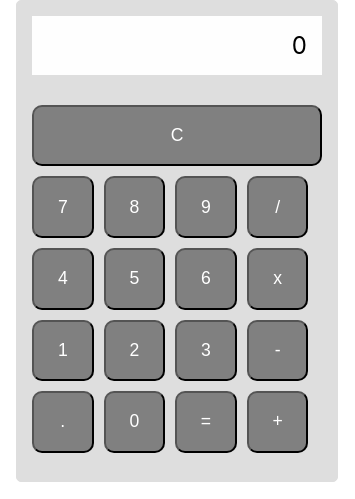
it: Calculator › should add 1 to 4 and get 5
This screenshot has width=355, height=499.
Click the button with test id "number4" at (63, 279), box [32,248,94,310]
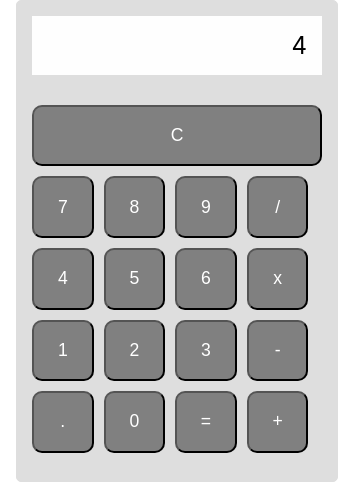
Click the button with test id "add" at (278, 422), box [247,391,308,453]
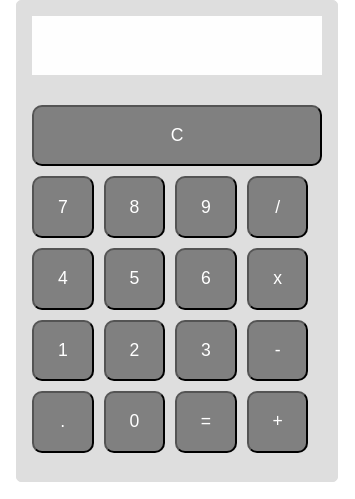
Click the button with test id "number1" at (63, 350), box [32,320,94,381]
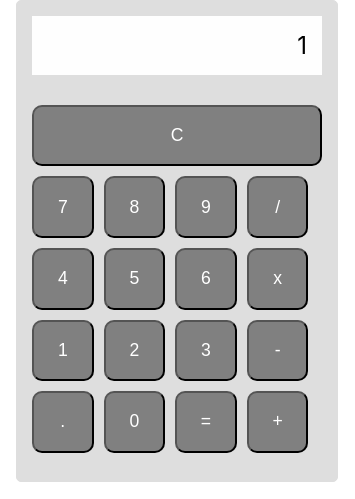
Click the button with test id "equals" at (206, 422), box [175,391,237,453]
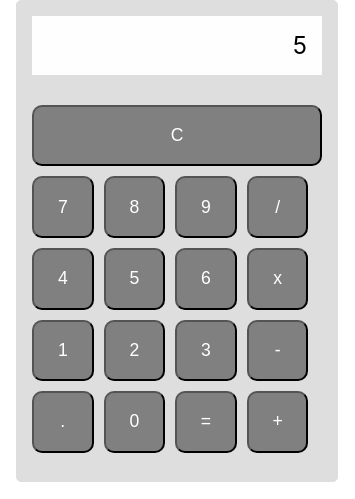
Result: the text with test id "running-total" reads "5" at [293,31,307,60]
